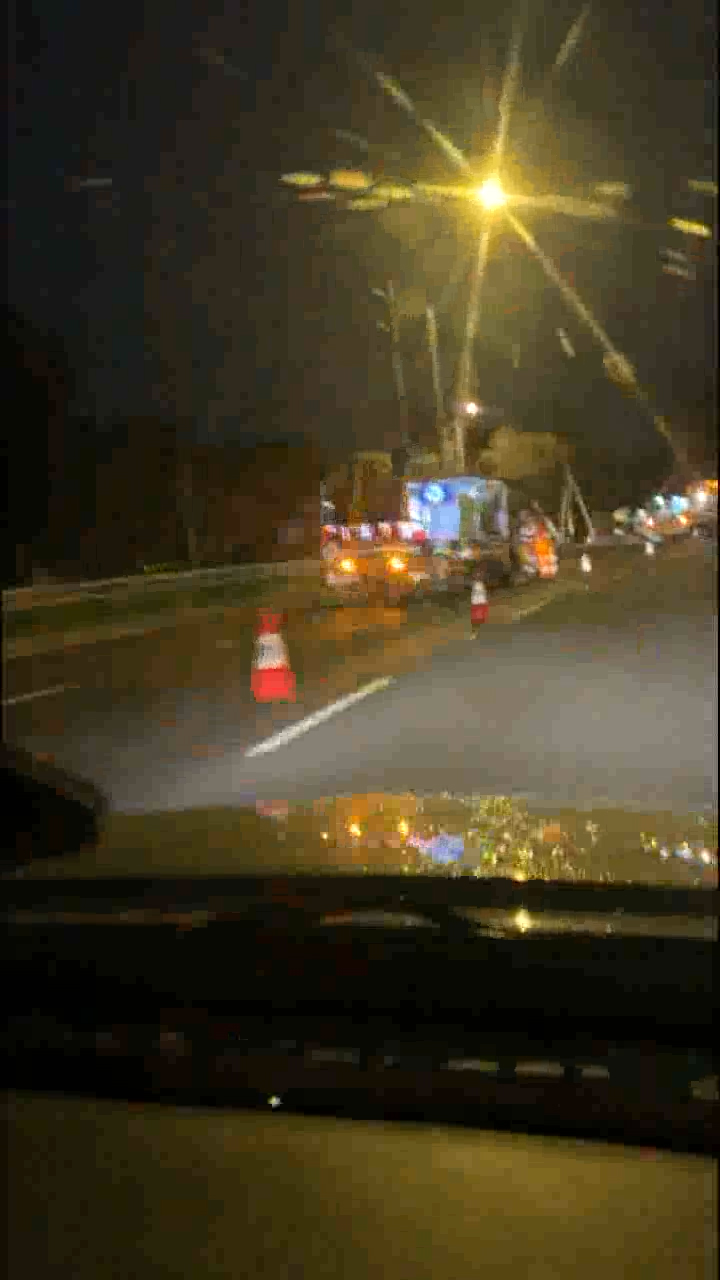person: (524, 509, 556, 584)
road cone: (245, 609, 306, 713)
truck: (320, 484, 508, 584)
